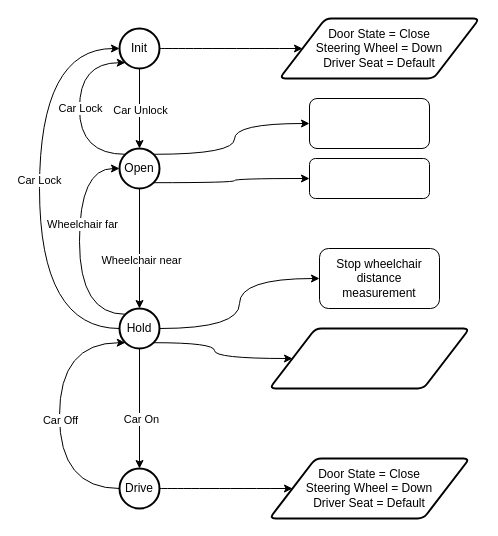
This 498x536 diagram has some shape labels left out. Here are the shapes that lost their labels. From the top down, the centre of each, then its label:
At [369,123]: "Start wheelchair distance measurement".
At [369,178]: "Start wheelchair assistant".
At [369,358]: "Door State = Open Steering Wheel = Up Driver Seat = Back".
